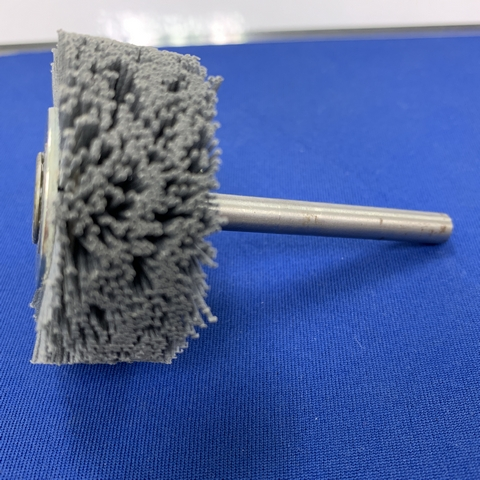Wheel Brush: (18, 25, 467, 373), (35, 29, 453, 369), (35, 46, 444, 360), (44, 40, 452, 334)
